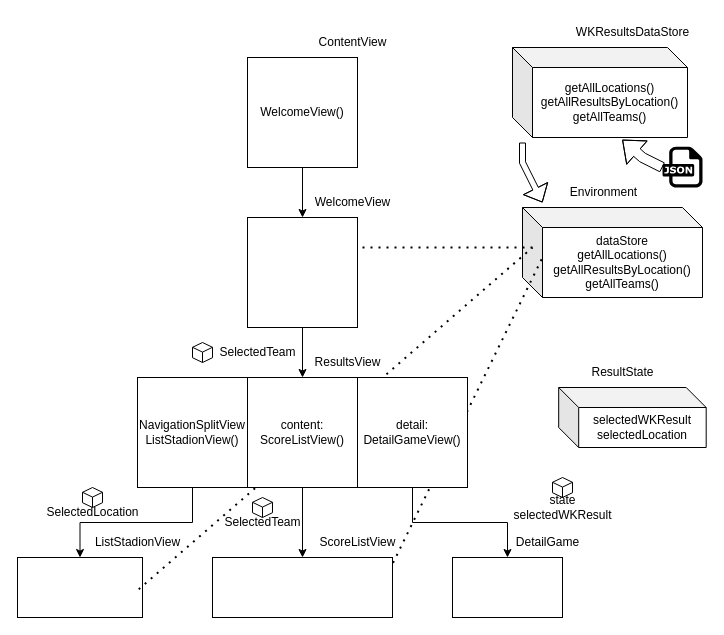
The diagram is 724 pixels wide and 635 high, and some of its shapes have lost their labels. The centre of each missing label's shape, as x and y in pixels:
"List(getAllLocations()" belongs at [79,587].
"List(getAllResultsByLocation() scoreDetailView()" belongs at [302,587].
"List(getAllTeams()) NavigationLink ResultsView()" belongs at [302,272].
"scoreDetailView()" belongs at [507,587].
